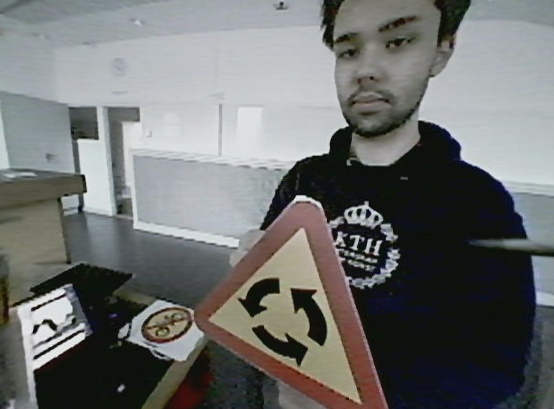roundabout_warning: (192, 187, 431, 408)
